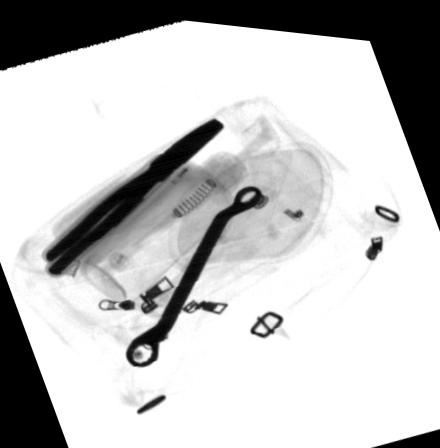Pliers: (42, 111, 223, 276)
Wrench: (124, 177, 263, 364)
